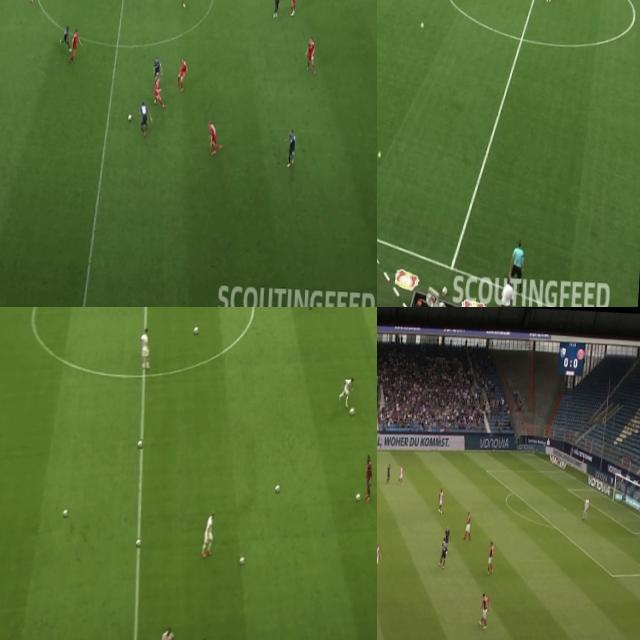ball: (126, 111, 134, 125), (354, 492, 362, 502), (135, 538, 142, 548), (61, 508, 67, 518), (138, 437, 143, 449), (274, 483, 280, 492), (377, 150, 381, 158), (194, 326, 198, 334), (350, 408, 354, 416), (240, 556, 244, 563), (421, 22, 424, 28)
player: (200, 509, 216, 556), (206, 118, 223, 158), (304, 36, 318, 77), (364, 456, 376, 500), (339, 377, 356, 408), (140, 328, 152, 368), (152, 78, 166, 109), (68, 28, 80, 64), (288, 127, 298, 166), (151, 57, 163, 88), (61, 23, 73, 53), (178, 56, 188, 90), (481, 592, 488, 628), (465, 511, 473, 542), (488, 541, 496, 571), (581, 494, 590, 520), (441, 537, 448, 567), (384, 460, 392, 486), (437, 488, 445, 514), (444, 524, 451, 550), (273, 0, 282, 19), (290, 0, 299, 17), (398, 463, 404, 485), (177, 0, 189, 8), (377, 544, 380, 574)
